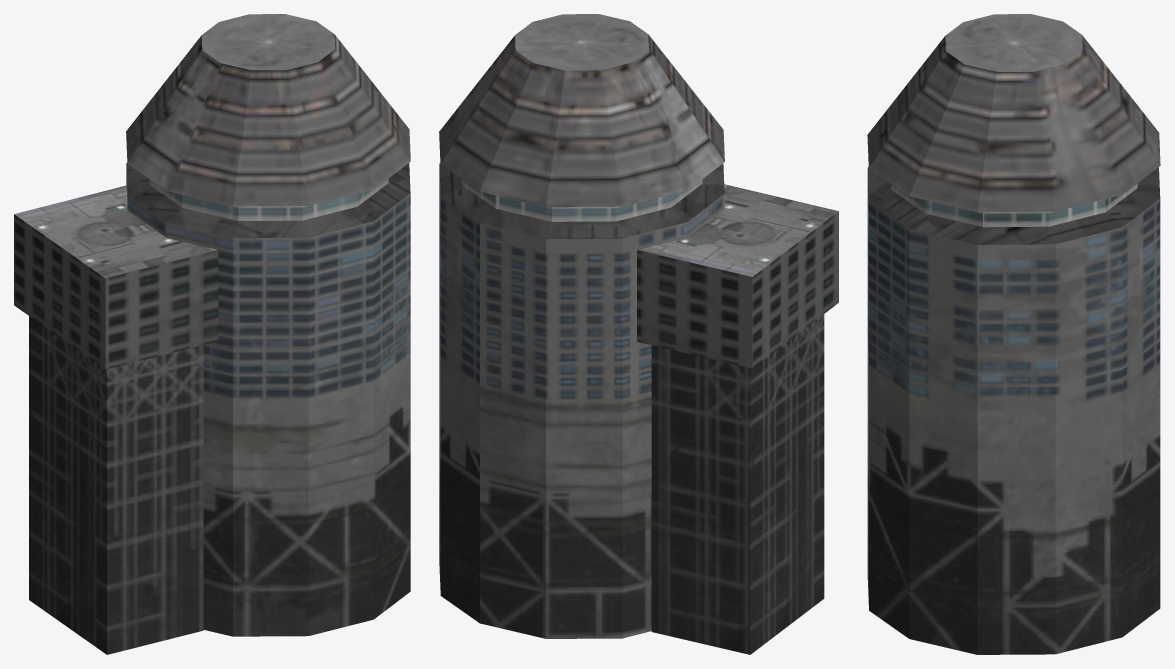
File: scifi_building_28.obj
3 renders of one model, left to right at view 1: azimuth 30°, elevation 25°; view 2: azimuth 150°, elevation 25°; view 3: azimuth 270°, elevation 25°, orthographic. The views are drawn at different scales.
Parts seen in each view (by area): view 1: building_28; view 2: building_28; view 3: building_28.
Boxes of the visible parts, x1,y1,x2,y2 form: building_28: (14,14,410,654); building_28: (439,14,838,654); building_28: (867,14,1160,654).
Bounding box in the file's own units: 72.24 × 110 × 53.12.
1 material, 1 textured.
